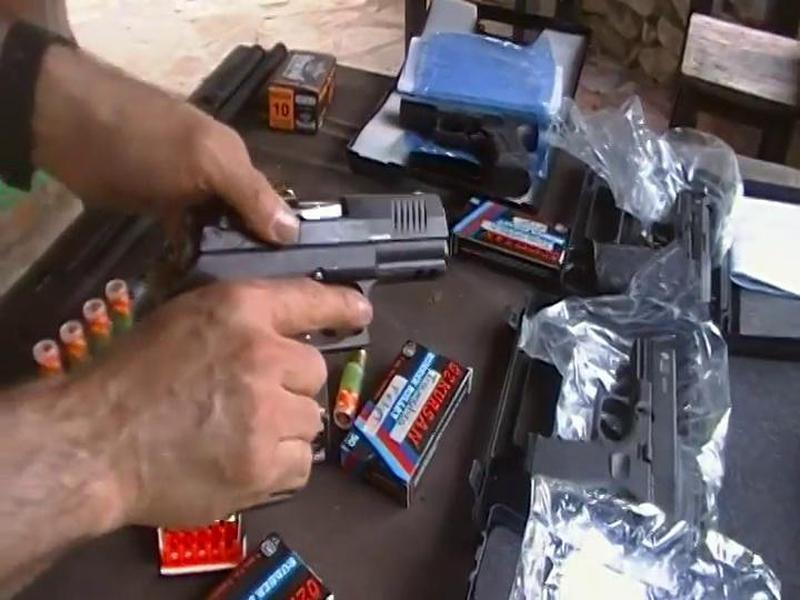Pistola: (176, 183, 468, 370)
